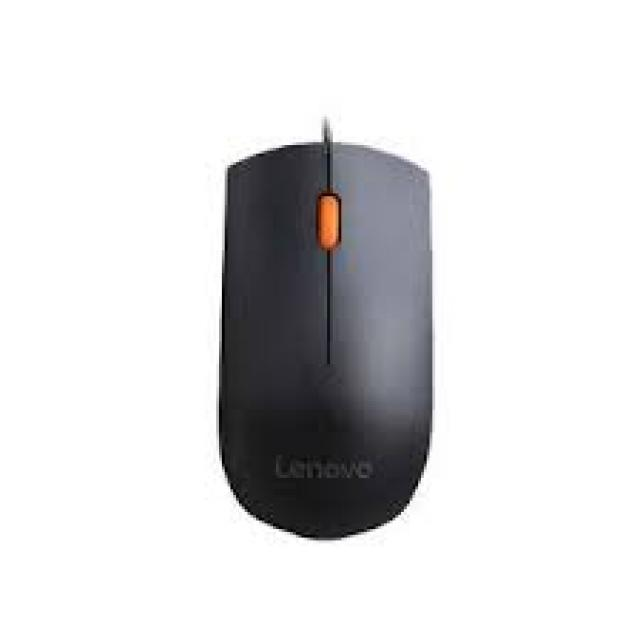others: (168, 131, 481, 555)
